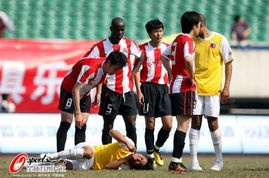falling: (26, 129, 159, 174)
